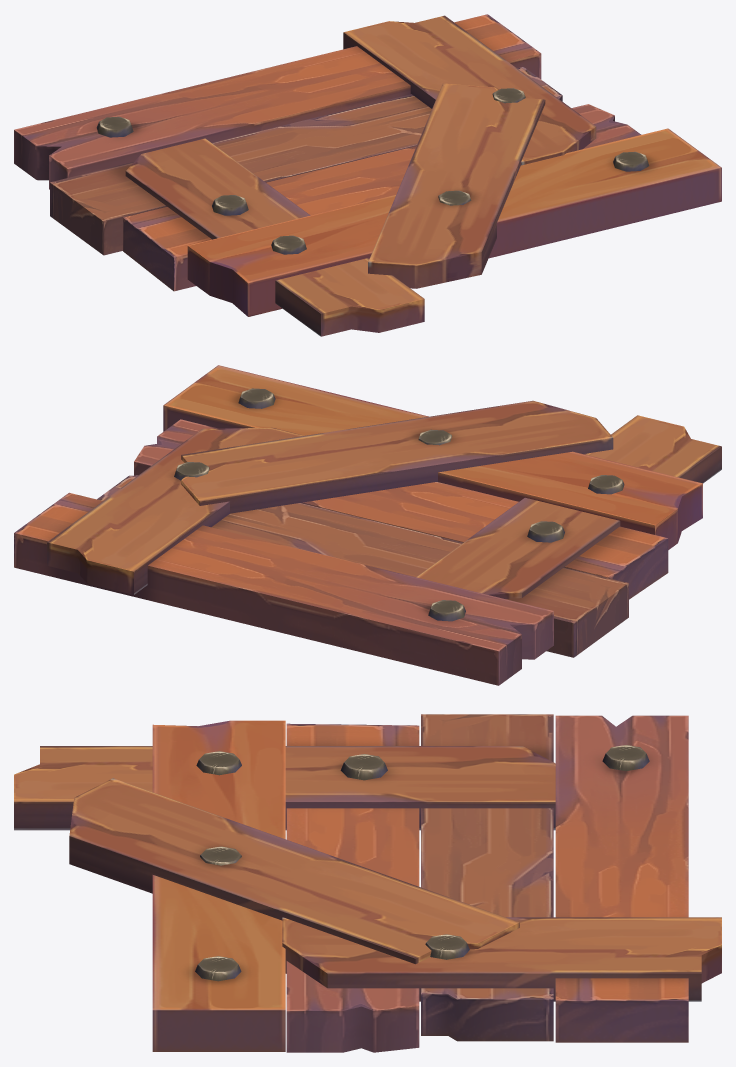
The model's file is scenes_town_road02a.FBX.
3 renders of one model, top to bottom at view 1: azimuth 30°, elevation 25°; view 2: azimuth 150°, elevation 25°; view 3: azimuth 270°, elevation 25°, orthographic. The views are drawn at different scales.
Parts seen in each view (by area): view 1: scenes_town_road02a; view 2: scenes_town_road02a; view 3: scenes_town_road02a.
Boxes of the visible parts, bbox=[...] form: scenes_town_road02a: bbox=[14, 14, 721, 336]; scenes_town_road02a: bbox=[14, 365, 721, 685]; scenes_town_road02a: bbox=[14, 714, 721, 1052].
Size of the model in its own units: 646 by 62.5 by 630.
